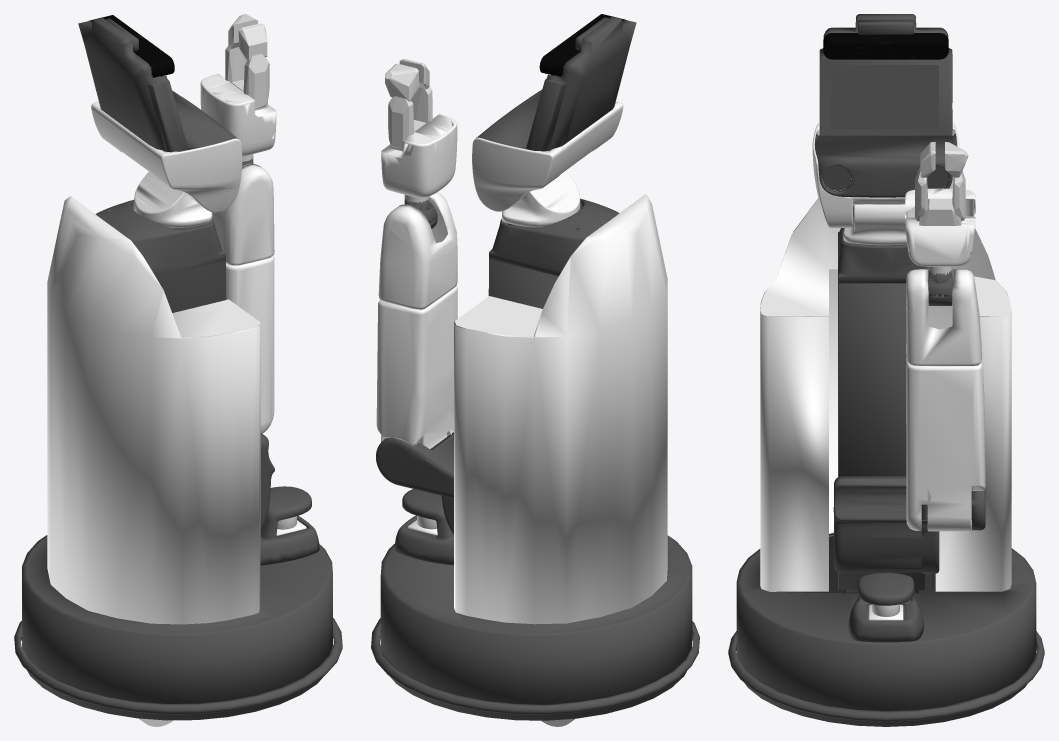
File: hsrb.fbx
3 renders of one model, left to right at view 1: azimuth 30°, elevation 25°; view 2: azimuth 150°, elevation 25°; view 3: azimuth 270°, elevation 25°, orthographic. The views are drawn at different scales.
Parts seen in each view (by area): view 1: base_link, head_tilt_link, torso_lift_link, arm_roll_link, arm_flex_link, wrist_roll_link, head_pan_link, hand_r_spring_proximal_link, head_rgbd_sensor_link, arm_lift_link, hand_r_distal_link, hand_l_spring_proximal_link; view 2: base_link, head_tilt_link, arm_flex_link, arm_roll_link, torso_lift_link, wrist_roll_link, arm_lift_link, head_pan_link, hand_l_spring_proximal_link, head_rgbd_sensor_link, hand_l_distal_link, hand_r_spring_proximal_link; view 3: base_link, head_tilt_link, torso_lift_link, arm_flex_link, arm_lift_link, arm_roll_link, wrist_roll_link, head_rgbd_sensor_link, head_pan_link, wrist_flex_link, hand_palm_link, hand_l_distal_link (+4 smaller).
Part boxes in pixels (box(x1,y1,x2,y2)): base_link: box(14, 196, 342, 720); head_tilt_link: box(78, 18, 242, 212); torso_lift_link: box(95, 200, 225, 312); arm_roll_link: box(212, 163, 274, 265); arm_flex_link: box(226, 256, 274, 433); wrist_roll_link: box(200, 74, 276, 156); head_pan_link: box(134, 172, 212, 227); hand_r_spring_proximal_link: box(243, 54, 269, 109); head_rgbd_sensor_link: box(89, 15, 174, 77); arm_lift_link: box(260, 433, 274, 529); hand_r_distal_link: box(238, 23, 267, 61); hand_l_spring_proximal_link: box(225, 46, 246, 82); base_link: box(371, 194, 699, 720); head_tilt_link: box(472, 17, 636, 211); arm_flex_link: box(376, 286, 457, 448); arm_roll_link: box(378, 192, 457, 309); torso_lift_link: box(488, 198, 619, 308); wrist_roll_link: box(381, 114, 457, 197); arm_lift_link: box(376, 432, 453, 534); head_pan_link: box(502, 171, 580, 227); hand_l_spring_proximal_link: box(388, 96, 414, 149); head_rgbd_sensor_link: box(539, 14, 625, 76); hand_l_distal_link: box(385, 63, 419, 101); hand_r_spring_proximal_link: box(411, 86, 432, 122); base_link: box(728, 198, 1044, 726); head_tilt_link: box(812, 14, 959, 227); torso_lift_link: box(838, 205, 933, 589); arm_flex_link: box(906, 352, 985, 531); arm_lift_link: box(833, 476, 985, 573); arm_roll_link: box(906, 269, 981, 365); wrist_roll_link: box(905, 188, 975, 266); head_rgbd_sensor_link: box(823, 33, 948, 59); head_pan_link: box(843, 204, 906, 245); wrist_flex_link: box(928, 266, 952, 305); hand_palm_link: box(919, 199, 961, 225); hand_l_distal_link: box(945, 142, 968, 177).
Bounding box in the file's own units: 45.45 × 100 × 45.45.
Materials: 18 (17 with a texture image).
